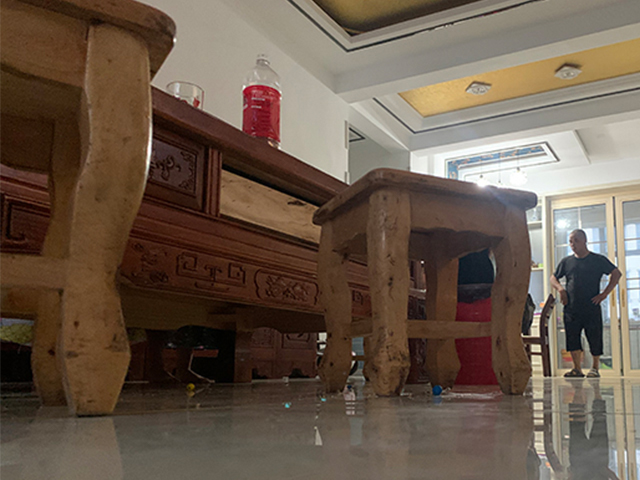stool: (1, 1, 176, 417), (311, 167, 540, 399), (523, 293, 555, 378)
table: (121, 84, 332, 384)
